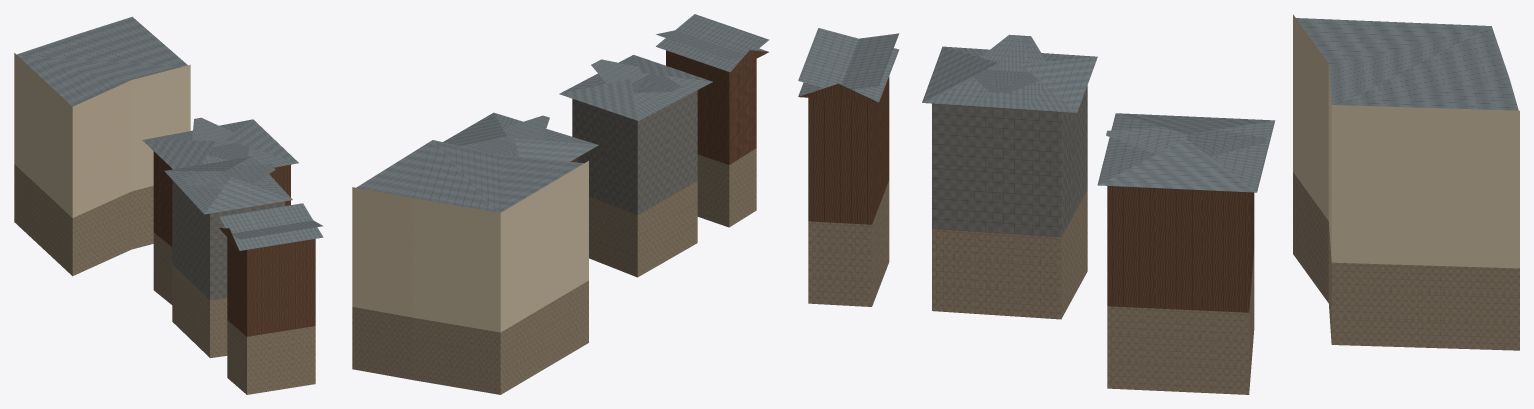
The model's file is bld_c31_-39_463.gltf.
3 renders of one model, left to right at view 1: azimuth 30°, elevation 25°; view 2: azimuth 150°, elevation 25°; view 3: azimuth 270°, elevation 25°, orthographic. The views are drawn at different scales.
Visible parts, largest first — view 1: bld_c31_-39_463; view 2: bld_c31_-39_463; view 3: bld_c31_-39_463.
Boxes of the visible parts, box(x1,y1,x2,y2) form: bld_c31_-39_463: box(14, 16, 323, 394); bld_c31_-39_463: box(352, 14, 769, 394); bld_c31_-39_463: box(798, 14, 1519, 394).
Bounding box in the file's own units: 15.48 × 16.68 × 40.56.
7 materials, 7 textured.
